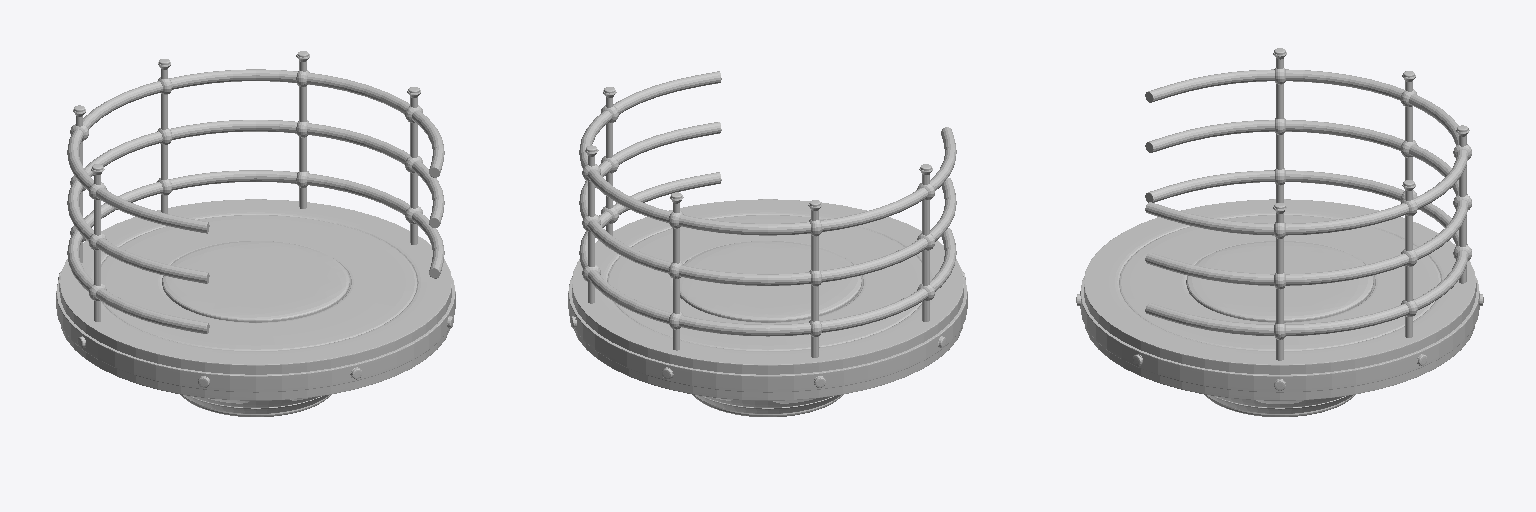
Rendered from LI Hover Platform LP.obj.
3 renders of one model, left to right at view 1: azimuth 30°, elevation 25°; view 2: azimuth 150°, elevation 25°; view 3: azimuth 270°, elevation 25°, orthographic.
Parts seen in each view (by area): view 1: Platform_Base, Handrail_Arcs, Platform_Centre, Platform_Band, Handrail_Poles, Handrail_Joints; view 2: Platform_Base, Handrail_Arcs, Platform_Centre, Platform_Band, Handrail_Poles, Handrail_Joints; view 3: Platform_Base, Handrail_Arcs, Platform_Centre, Platform_Band, Handrail_Poles, Handrail_Joints.
Boxes of the visible parts, x1,y1,x2,y2 form: Platform_Base: [59, 199, 451, 413]; Handrail_Arcs: [67, 69, 444, 333]; Platform_Centre: [162, 241, 349, 322]; Platform_Band: [56, 276, 455, 392]; Handrail_Poles: [73, 54, 420, 321]; Handrail_Joints: [70, 70, 422, 300]; Platform_Base: [572, 199, 963, 413]; Handrail_Arcs: [579, 71, 956, 336]; Platform_Centre: [680, 241, 861, 322]; Platform_Band: [568, 278, 967, 392]; Handrail_Poles: [585, 90, 932, 357]; Handrail_Joints: [582, 105, 934, 336]; Platform_Base: [1084, 199, 1476, 413]; Handrail_Arcs: [1145, 69, 1467, 335]; Platform_Centre: [1186, 241, 1373, 322]; Platform_Band: [1080, 276, 1479, 392]; Handrail_Poles: [1273, 52, 1469, 360]; Handrail_Joints: [1274, 68, 1471, 339].
Size of the model in its own units: 10.25 by 7.15 by 10.25.